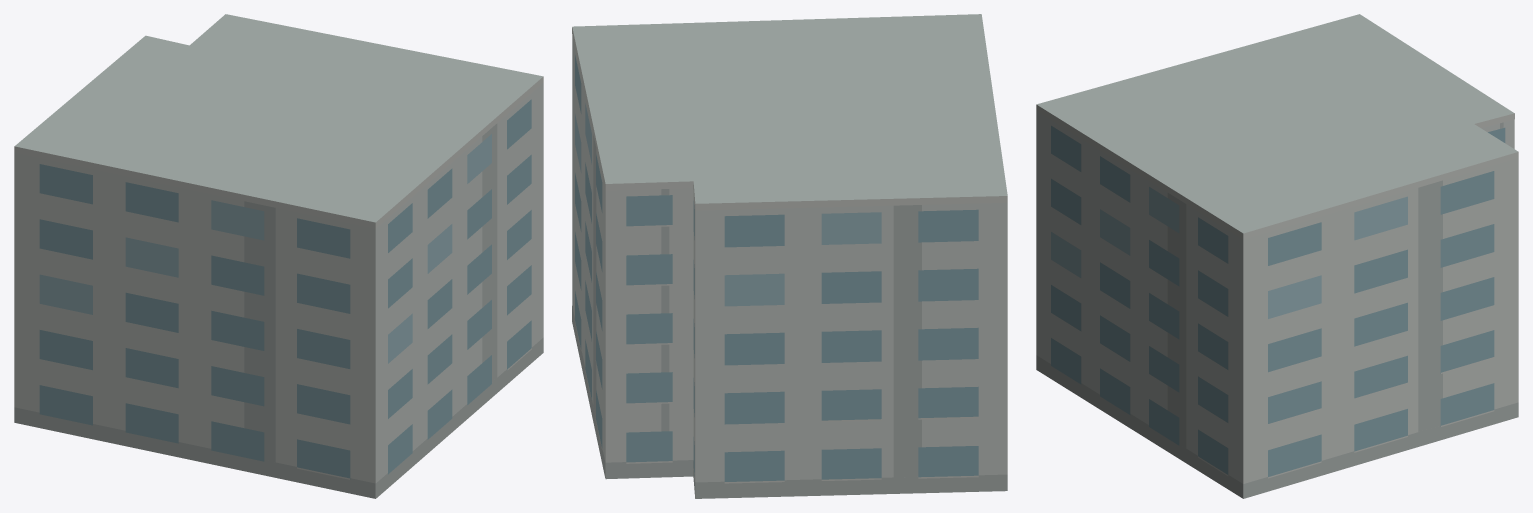
Rendered from survey-upis-33044584.glb.
3 views of the same model, side by side, from view 1: azimuth 30°, elevation 25°; view 2: azimuth 150°, elevation 25°; view 3: azimuth 270°, elevation 25° (orthographic). The views are drawn at different scales.
Visible parts, largest first — view 1: survey-upis-33044584.tmp; view 2: survey-upis-33044584.tmp; view 3: survey-upis-33044584.tmp.
Boxes of the visible parts, x1,y1,x2,y2 form: survey-upis-33044584.tmp: [14, 14, 543, 498]; survey-upis-33044584.tmp: [572, 14, 1007, 498]; survey-upis-33044584.tmp: [1036, 14, 1518, 498].
Bounding box in the file's own units: 18.64 × 10.5 × 17.31.
